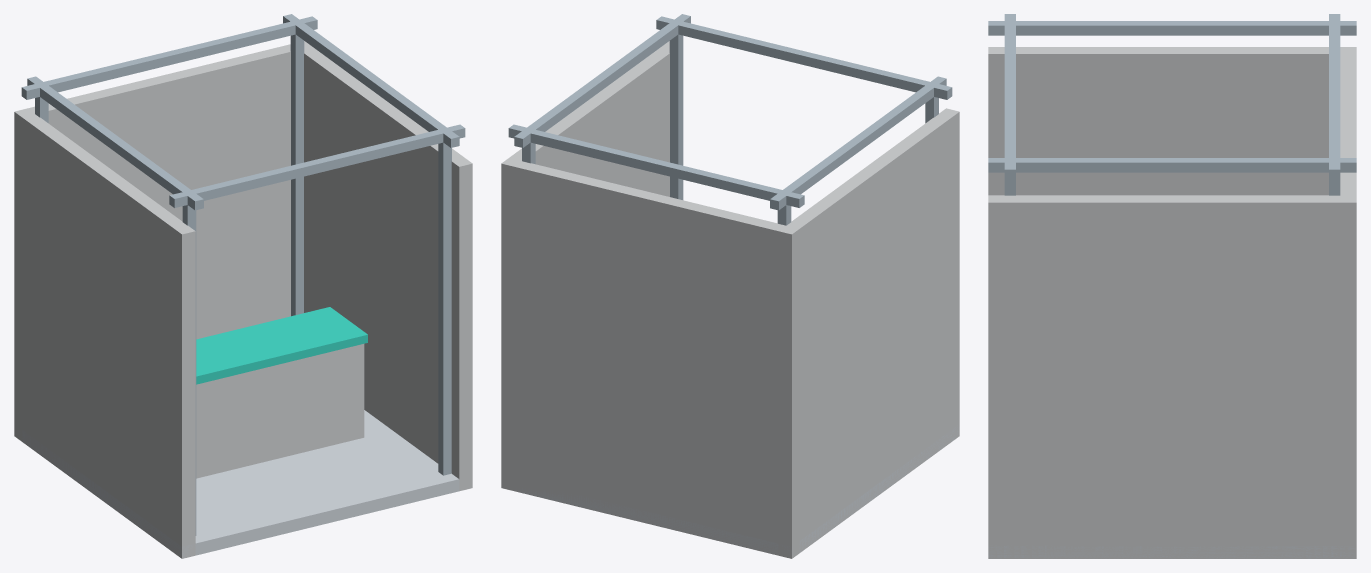
The picture shows the model from 3 angles, left to right: view 1: azimuth 30°, elevation 25°; view 2: azimuth 150°, elevation 25°; view 3: azimuth 270°, elevation 25°; orthographic projection. The views are drawn at different scales.
Visible parts, largest first — view 1: Exhibition Booth Concept; view 2: Exhibition Booth Concept; view 3: Exhibition Booth Concept.
Boxes of the visible parts, box(x1,y1,x2,y2) form: Exhibition Booth Concept: box(14, 14, 472, 558); Exhibition Booth Concept: box(501, 14, 959, 558); Exhibition Booth Concept: box(988, 14, 1356, 558).
Size of the model in its own units: 3 by 3.49 by 3.
